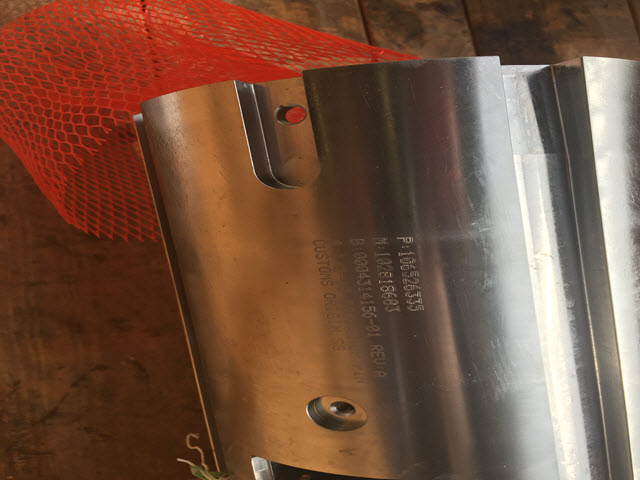character: (395, 234, 414, 246), (400, 268, 420, 279), (369, 369, 389, 379), (402, 283, 423, 292), (400, 277, 423, 285), (375, 257, 393, 267), (401, 291, 423, 299), (379, 284, 398, 293), (368, 343, 387, 352), (396, 250, 417, 258), (398, 263, 419, 271), (406, 304, 427, 312), (369, 350, 387, 359), (399, 257, 418, 265), (382, 298, 400, 306), (358, 292, 376, 300), (406, 297, 423, 305), (383, 306, 402, 313), (374, 250, 393, 257), (375, 265, 393, 272), (369, 358, 387, 365), (376, 279, 396, 285), (377, 272, 392, 280), (361, 305, 376, 313), (360, 312, 377, 319), (381, 293, 399, 299), (359, 299, 376, 305)
